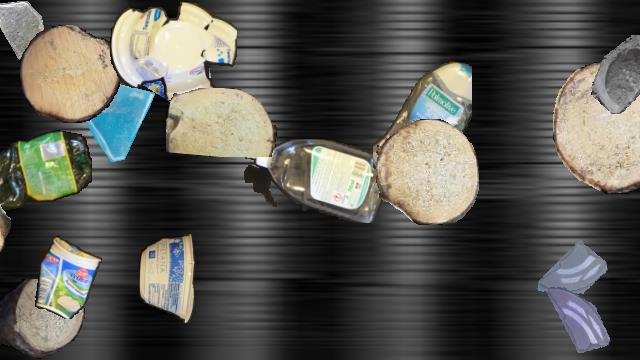glass: (120, 30, 214, 124), (74, 75, 164, 165), (540, 285, 614, 359), (535, 238, 607, 310), (589, 35, 640, 113), (0, 1, 47, 59)
plastic: (373, 57, 471, 191), (110, 1, 236, 101), (244, 139, 390, 223), (0, 126, 91, 218), (33, 236, 103, 318), (139, 234, 195, 322)
wood: (553, 61, 640, 193), (376, 119, 478, 225), (20, 25, 120, 123), (166, 88, 276, 156), (0, 279, 85, 359), (0, 187, 11, 275)
